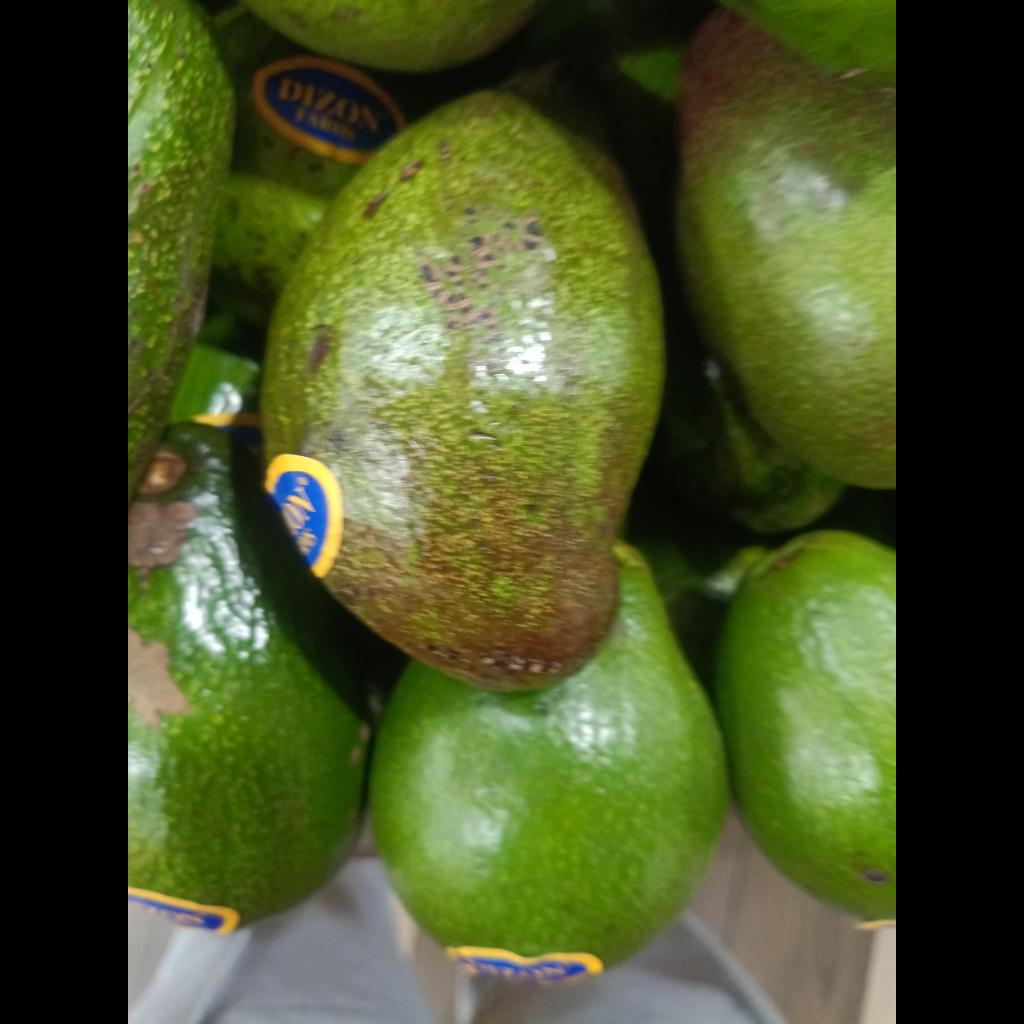rona: (263, 92, 664, 690)
